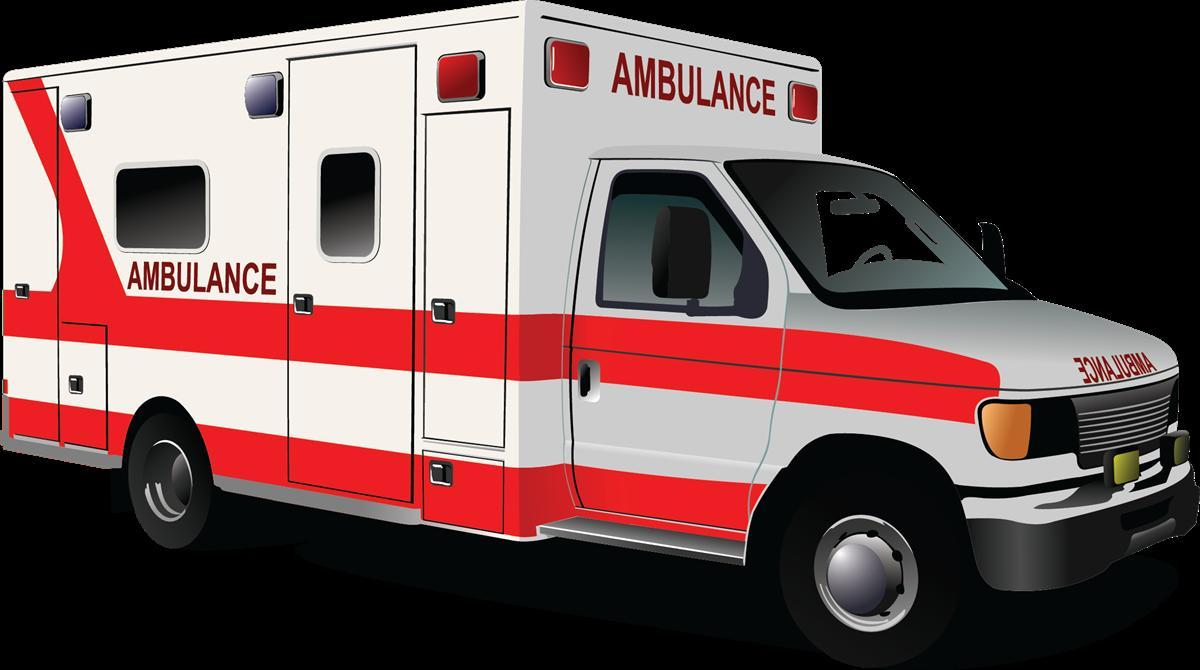Ambulance: (587, 41, 786, 136), (106, 253, 288, 305), (1065, 349, 1172, 395)
